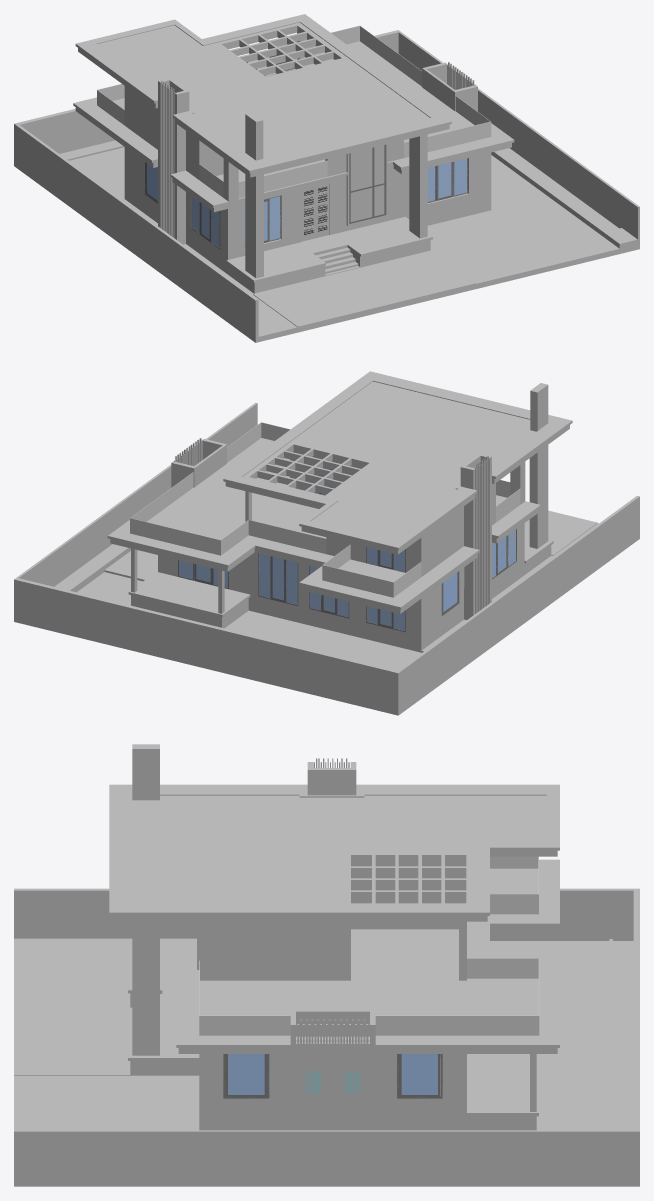
File: project x.gltf
3 views of the same model, one above another, from view 1: azimuth 30°, elevation 25°; view 2: azimuth 150°, elevation 25°; view 3: azimuth 270°, elevation 25° (orthographic). The views are drawn at different scales.
Visible parts, largest first — view 1: group_61.004, group_77, group_77.004, group_77.001, group_61.001, group_77.002, group_76.004, group_65.001, group_55, group_62.010, group_88, instance_113 (+23 smaller); view 2: group_77.001, group_61.004, group_77, group_61.001, group_55.025, group_77.005, group_55, group_65.010, group_65.001, group_63.001, instance_113, group_36.003 (+21 smaller); view 3: group_77.001, group_61.004, group_55.025, group_77.004, group_61.001, group_77.002, group_77.005, group_62.010, group_58.007, group_55, group_65.001, group_77.006 (+30 smaller).
Boxes of the visible parts, x1,y1,x2,y2 form: group_61.004: [97, 22, 430, 158]; group_77: [14, 124, 639, 342]; group_77.004: [122, 155, 619, 336]; group_77.001: [14, 30, 639, 300]; group_61.001: [75, 14, 451, 173]; group_77.002: [253, 250, 474, 326]; group_76.004: [193, 175, 385, 259]; group_65.001: [228, 217, 429, 279]; group_55: [73, 57, 513, 207]; group_62.010: [385, 152, 491, 221]; group_88: [350, 145, 384, 221]; instance_113: [230, 30, 333, 75]; group_77.001: [14, 402, 639, 715]; group_61.004: [242, 380, 536, 540]; group_77: [398, 496, 639, 715]; group_61.001: [223, 371, 572, 550]; group_55.025: [147, 438, 326, 539]; group_77.005: [77, 570, 423, 670]; group_55: [108, 495, 540, 607]; group_65.010: [248, 561, 524, 650]; group_65.001: [135, 535, 550, 612]; group_63.001: [406, 483, 495, 576]; instance_113: [257, 449, 360, 494]; group_36.003: [529, 445, 548, 548]; group_77.001: [14, 888, 639, 1186]; group_61.004: [132, 794, 546, 905]; group_55.025: [200, 929, 538, 1040]; group_77.004: [14, 938, 199, 1130]; group_61.001: [109, 784, 559, 915]; group_77.002: [14, 962, 130, 1075]; group_77.005: [490, 941, 609, 1130]; group_62.010: [199, 1047, 466, 1120]; group_58.007: [199, 921, 350, 980]; group_55: [176, 859, 559, 1044]; group_65.001: [130, 945, 529, 1111]; group_77.006: [613, 941, 633, 1130].
Bounding box in the file's own units: 24.93 × 10.93 × 27.14.
